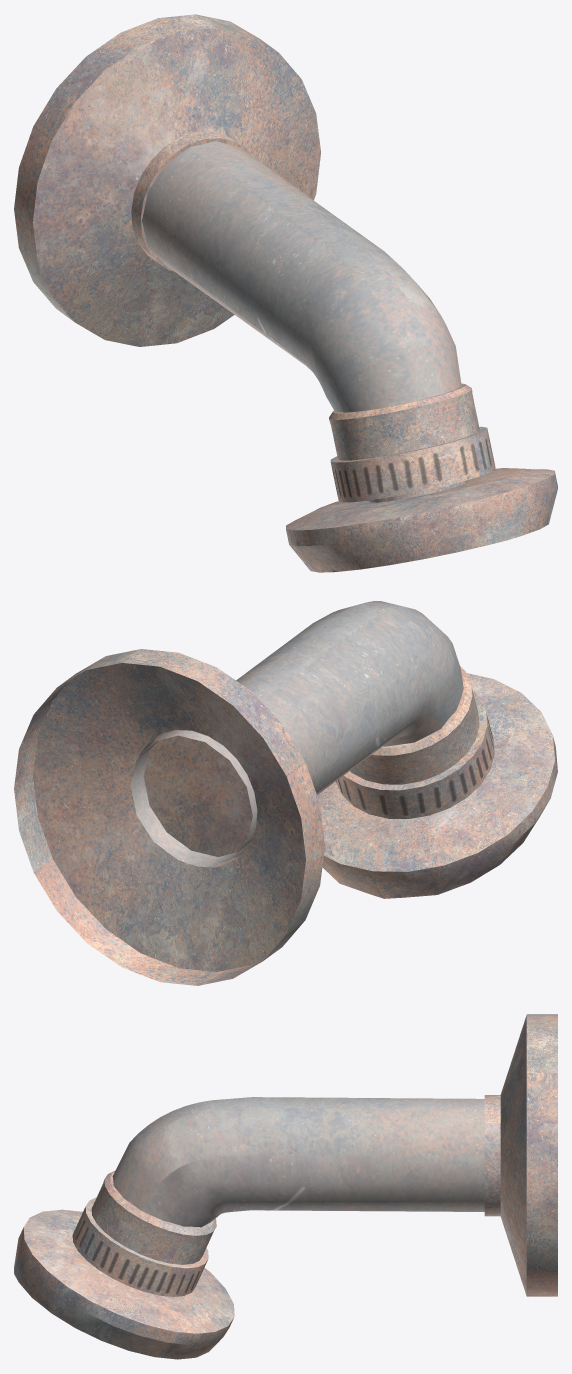
File: jailshower_head.glb
3 renders of one model, top to bottom at view 1: azimuth 30°, elevation 25°; view 2: azimuth 150°, elevation 25°; view 3: azimuth 270°, elevation 25°, orthographic. The views are drawn at different scales.
Visible parts, largest first — view 1: Object_2; view 2: Object_2; view 3: Object_2.
Boxes of the visible parts, bbox=[...] form: Object_2: bbox=[14, 14, 557, 572]; Object_2: bbox=[14, 601, 557, 985]; Object_2: bbox=[14, 1014, 557, 1359].
Size of the model in its own units: 6.97 by 8.73 by 13.71.
Materials: 1 (1 with a texture image).
